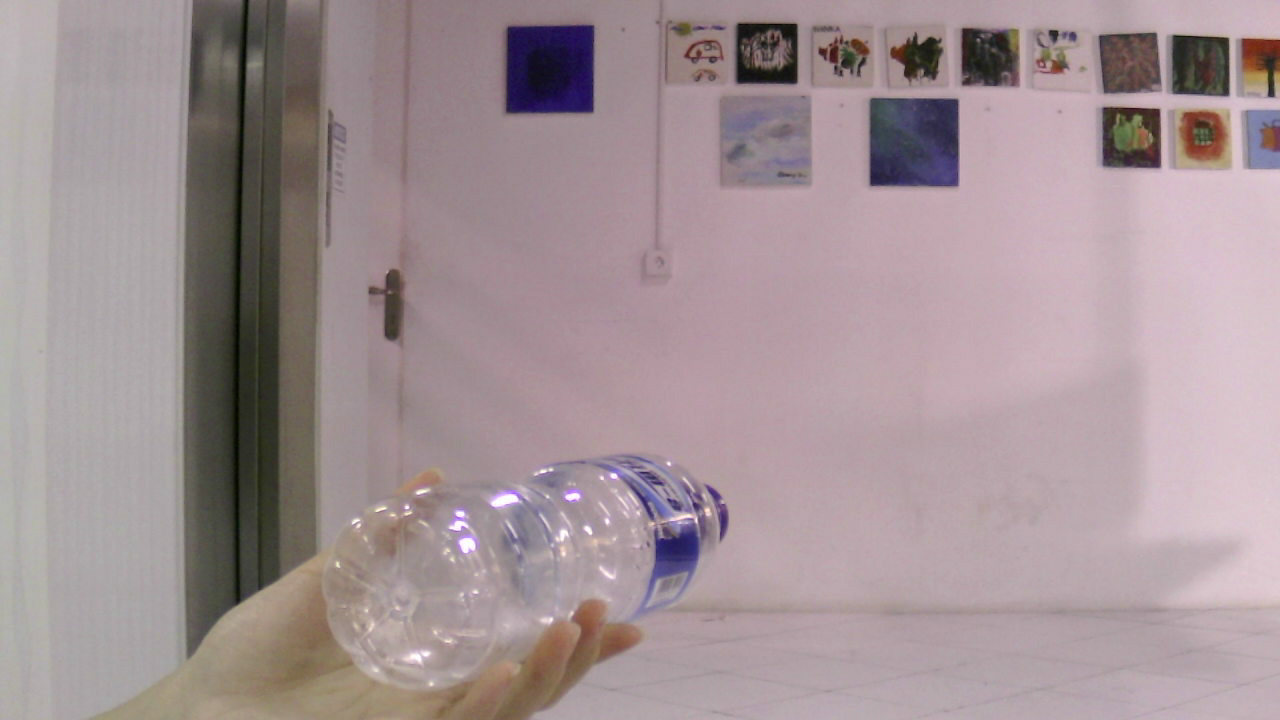Bottle: (323, 454, 734, 699)
